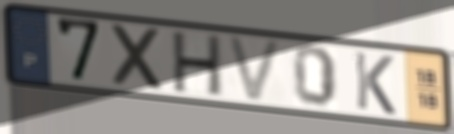0: (290, 42, 340, 111)
7: (54, 15, 103, 86)
H: (171, 30, 225, 100)
K: (351, 49, 398, 118)
V: (224, 33, 286, 105)
X: (108, 21, 168, 94)
